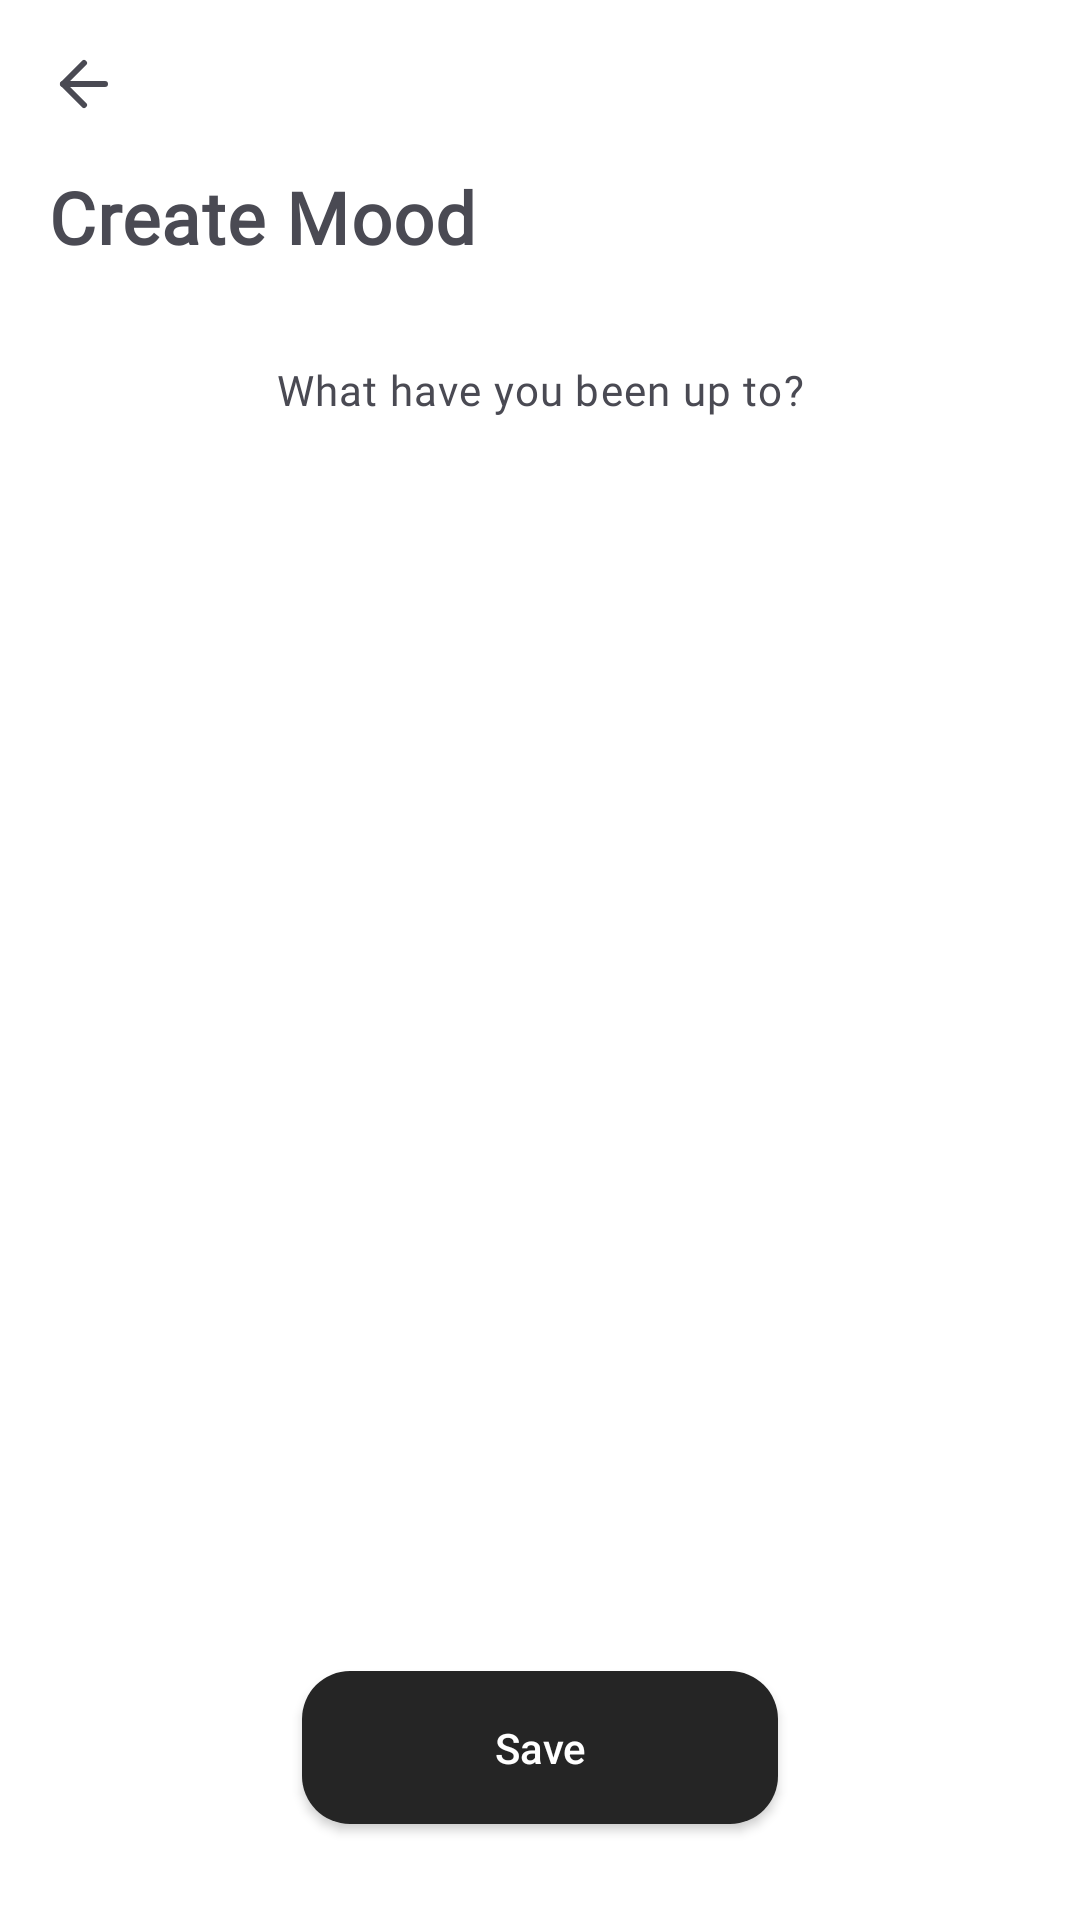

Point at icon controls on the screen. Image size 1080 x 1920, points as [x,y].
arrow left: [84,84]
